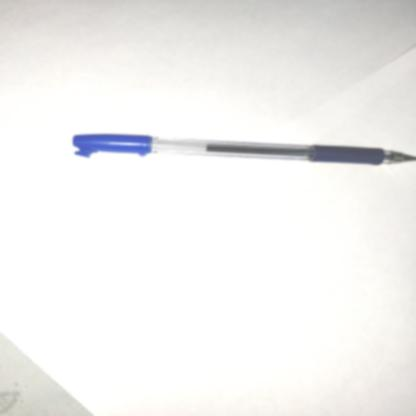pen: (55, 111, 415, 185)
